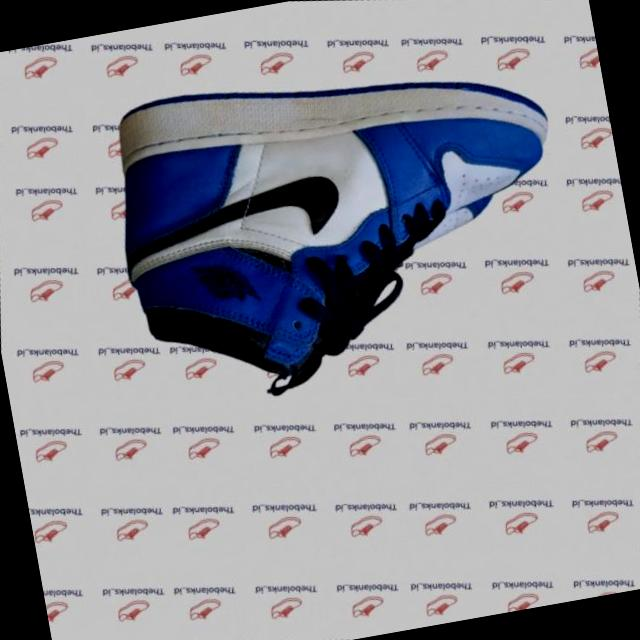nike_fake_jordan: (73, 14, 604, 444)
